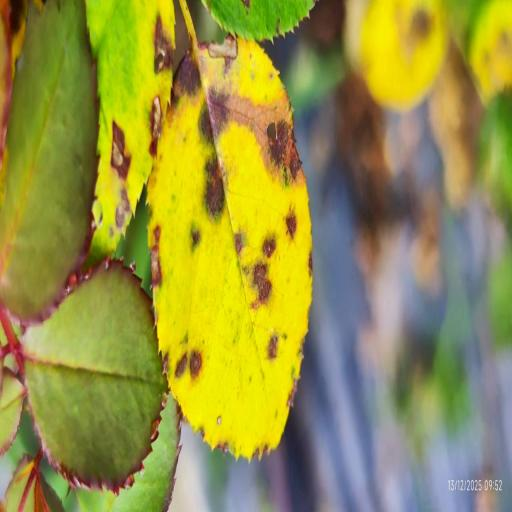black_spot: (147, 36, 312, 458), (86, 0, 175, 262), (202, 0, 316, 40)
